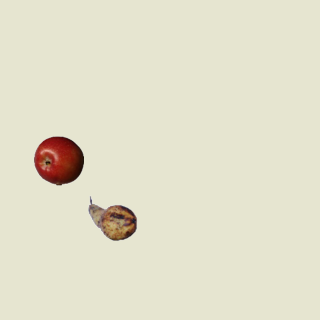Apple Braeburn: (33, 135, 83, 185)
Pear Abate: (87, 193, 137, 243)
